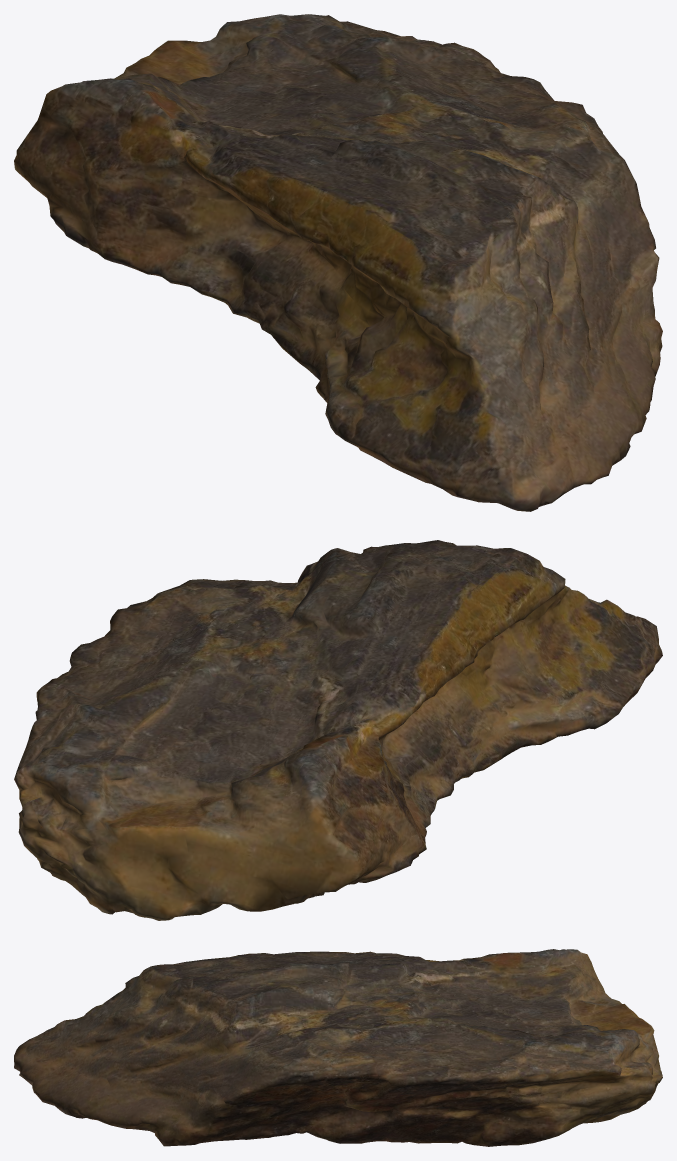
The model's file is rock_09-lod0.glb.
The picture shows the model from 3 angles, top to bottom: view 1: azimuth 30°, elevation 25°; view 2: azimuth 150°, elevation 25°; view 3: azimuth 270°, elevation 25°; orthographic projection. The views are drawn at different scales.
Visible parts, largest first — view 1: rock_09_LOD0; view 2: rock_09_LOD0; view 3: rock_09_LOD0.
Boxes of the visible parts, x1,y1,x2,y2 form: rock_09_LOD0: (14,14,662,511); rock_09_LOD0: (14,540,662,920); rock_09_LOD0: (14,949,662,1146).
Size of the model in its own units: 0.074 by 0.0329 by 0.1446.
1 material, 1 textured.
